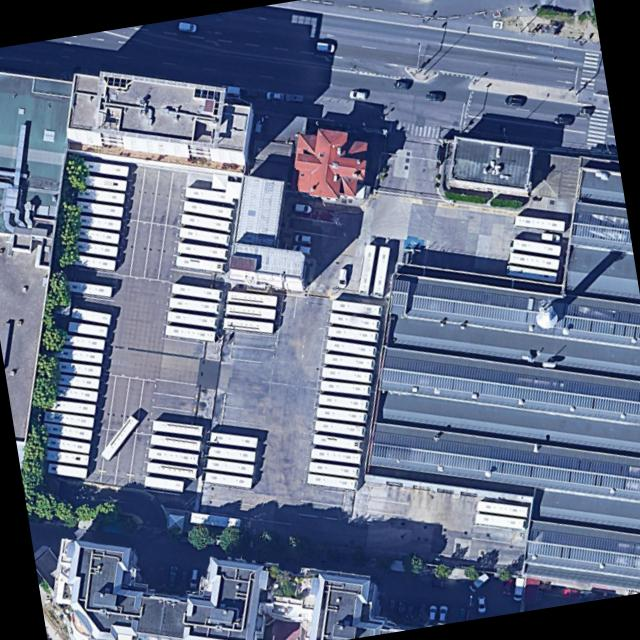large-vehicle: (99, 414, 138, 461), (181, 200, 234, 219), (180, 213, 232, 232), (178, 226, 230, 245), (505, 264, 557, 283), (371, 245, 390, 296), (328, 311, 379, 330), (165, 310, 218, 328), (305, 472, 358, 490), (41, 421, 91, 440), (40, 435, 90, 454), (174, 255, 226, 273), (170, 283, 222, 301), (507, 252, 559, 270), (357, 244, 375, 296), (311, 433, 363, 451), (45, 383, 97, 401), (147, 447, 199, 465), (510, 238, 561, 256), (325, 339, 376, 357), (49, 359, 100, 377), (206, 430, 257, 448), (149, 433, 200, 451), (175, 242, 228, 259), (167, 297, 220, 314), (69, 226, 119, 244), (63, 253, 115, 270), (309, 447, 361, 464), (475, 500, 527, 517), (326, 325, 378, 342), (203, 445, 255, 462), (145, 461, 197, 478), (200, 471, 252, 488), (188, 511, 240, 528), (74, 199, 123, 217), (77, 159, 128, 176), (76, 173, 127, 190), (60, 279, 111, 296), (43, 410, 94, 427), (151, 419, 202, 436), (68, 240, 118, 257), (52, 346, 102, 363), (48, 372, 98, 389), (307, 461, 360, 477), (223, 303, 276, 319), (316, 394, 369, 410), (201, 458, 254, 474), (163, 325, 215, 341), (225, 290, 277, 306), (222, 317, 274, 333), (322, 353, 374, 369), (313, 420, 365, 436), (76, 187, 124, 204), (474, 513, 525, 529), (330, 299, 381, 315), (321, 367, 372, 383), (44, 398, 95, 414), (512, 215, 563, 231), (183, 187, 233, 203), (318, 380, 371, 395), (71, 214, 120, 230), (40, 449, 89, 465), (315, 407, 367, 422), (69, 307, 112, 325), (59, 333, 105, 349), (67, 321, 108, 337), (142, 475, 183, 491), (46, 462, 87, 478)
small-vehicle: (467, 571, 488, 592), (511, 576, 525, 601), (540, 230, 561, 244), (176, 21, 196, 33), (167, 566, 178, 587), (336, 268, 347, 289), (504, 95, 525, 106), (500, 577, 512, 596), (314, 41, 333, 53), (177, 570, 188, 590), (188, 568, 199, 588), (293, 233, 311, 245), (291, 244, 310, 255), (386, 598, 397, 617), (553, 115, 572, 126), (436, 605, 447, 623), (403, 603, 414, 621), (416, 602, 426, 621), (348, 89, 367, 99), (395, 598, 406, 615), (293, 203, 311, 213), (427, 604, 437, 622), (285, 93, 303, 103), (425, 92, 443, 102), (265, 91, 283, 100), (392, 80, 409, 89), (477, 596, 485, 613), (206, 537, 223, 545), (562, 588, 577, 597), (431, 579, 447, 587), (578, 106, 592, 115), (178, 535, 195, 542)
